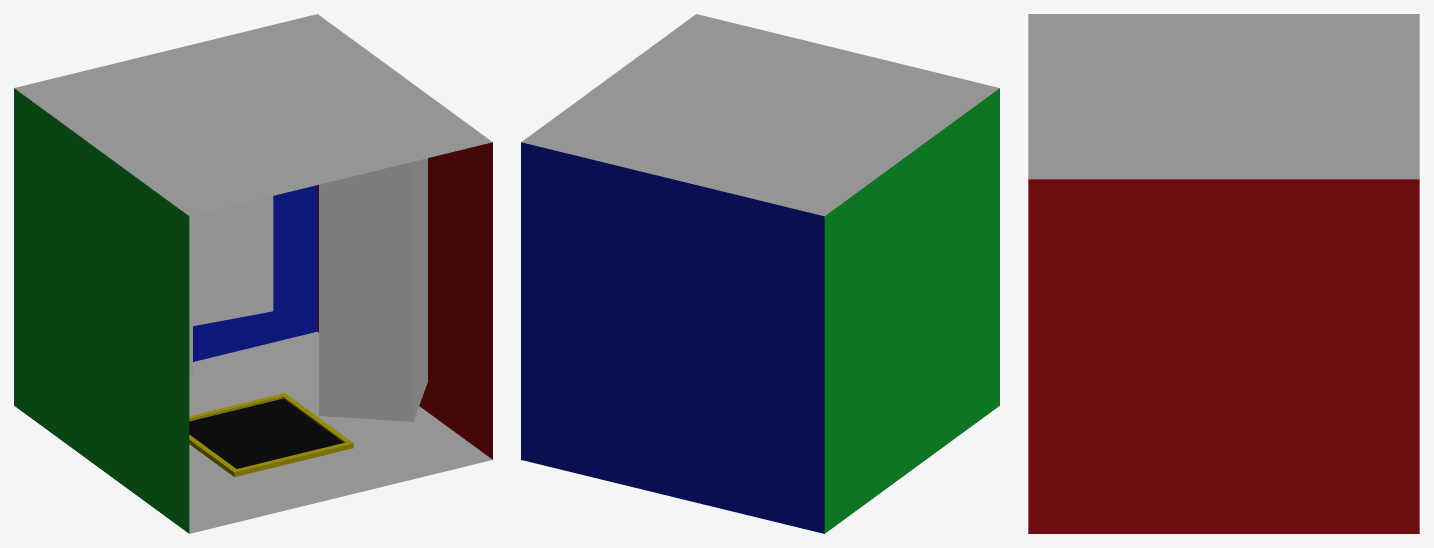
Rendered from tudosm2.obj.
3 views of the same model, side by side, from view 1: azimuth 30°, elevation 25°; view 2: azimuth 150°, elevation 25°; view 3: azimuth 270°, elevation 25° (orthographic). The views are drawn at different scales.
Parts seen in each view (by area): view 1: right_wall_Plane.002_wall3_right_wall_right_wall_Plane.002_wall, floor_Plane_Floor_floor_floor_Plane_Floor_floor_floor, Cube_Cube.001, teto_Plane.006_Teto_teto_teto_Plane.006_Teto_teto_teto, left_wall_Plane.001_wall1_left_wall_left_wall_Plane.001_wall1_l, Cube.002_Cube.003, back_wall_Plane.003_wall2_back_wall.001_back_wall_Plane.003_wal, light_Plane.004_Plane_ligth_light_Plane.004_Plane_ligth_ligth, None_Cube.001_Material.001; view 2: back_wall_Plane.003_wall2_back_wall.001_back_wall_Plane.003_wal, right_wall_Plane.002_wall3_right_wall_right_wall_Plane.002_wall, floor_Plane_Floor_floor_floor_Plane_Floor_floor_floor; view 3: left_wall_Plane.001_wall1_left_wall_left_wall_Plane.001_wall1_l, floor_Plane_Floor_floor_floor_Plane_Floor_floor_floor.
Boxes of the visible parts, box(x1,y1,x2,y2) form: right_wall_Plane.002_wall3_right_wall_right_wall_Plane.002_wall: box(14, 88, 189, 533); floor_Plane_Floor_floor_floor_Plane_Floor_floor_floor: box(14, 14, 492, 216); Cube_Cube.001: box(319, 158, 427, 421); teto_Plane.006_Teto_teto_teto_Plane.006_Teto_teto_teto: box(189, 331, 492, 533); left_wall_Plane.001_wall1_left_wall_left_wall_Plane.001_wall1_l: box(317, 142, 492, 459); Cube.002_Cube.003: box(189, 196, 273, 326); back_wall_Plane.003_wall2_back_wall.001_back_wall_Plane.003_wal: box(193, 185, 317, 361); light_Plane.004_Plane_ligth_light_Plane.004_Plane_ligth_ligth: box(189, 398, 343, 468); None_Cube.001_Material.001: box(189, 393, 353, 476); back_wall_Plane.003_wall2_back_wall.001_back_wall_Plane.003_wal: box(521, 142, 824, 533); right_wall_Plane.002_wall3_right_wall_right_wall_Plane.002_wall: box(824, 88, 999, 533); floor_Plane_Floor_floor_floor_Plane_Floor_floor_floor: box(521, 14, 999, 216); left_wall_Plane.001_wall1_left_wall_left_wall_Plane.001_wall1_l: box(1028, 179, 1419, 533); floor_Plane_Floor_floor_floor_Plane_Floor_floor_floor: box(1028, 14, 1419, 179).
Bounding box in the file's own units: 2 × 2 × 2.
